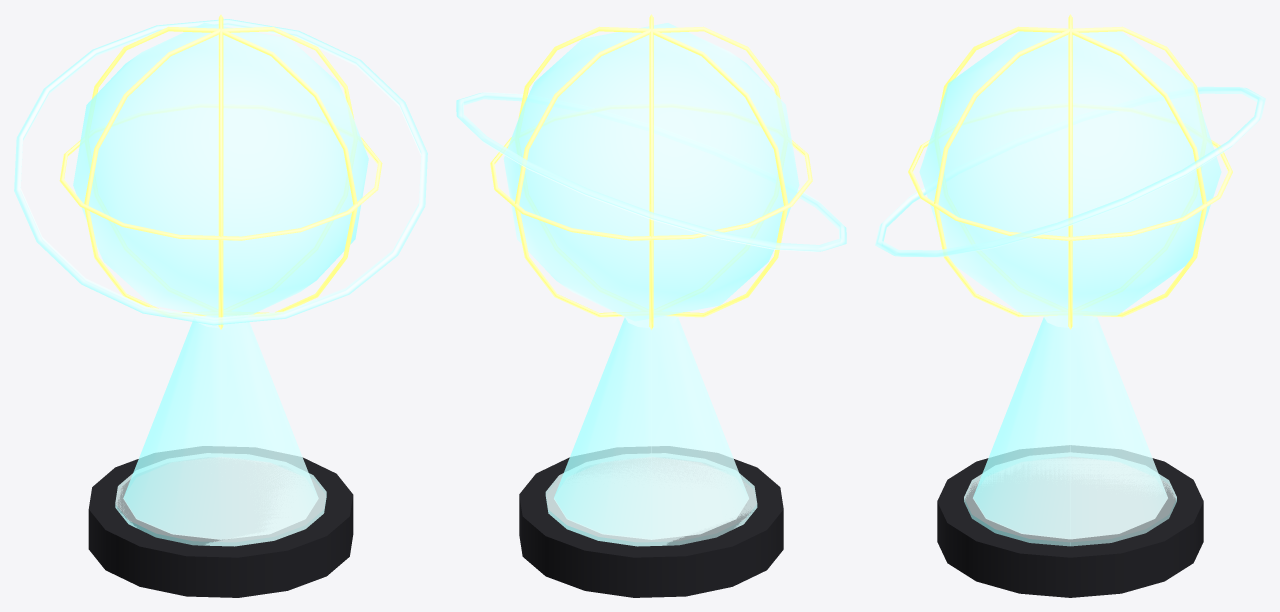
File: station_transport_ausstattung_1_3.glb
3 renders of one model, left to right at view 1: azimuth 30°, elevation 25°; view 2: azimuth 150°, elevation 25°; view 3: azimuth 270°, elevation 25°, orthographic.
Visible parts, largest first — view 1: station_transport_ausstattung_1_3; view 2: station_transport_ausstattung_1_3; view 3: station_transport_ausstattung_1_3.
Boxes of the visible parts, <box> form: station_transport_ausstattung_1_3: <box>14,14,427,597</box>; station_transport_ausstattung_1_3: <box>456,14,846,597</box>; station_transport_ausstattung_1_3: <box>875,14,1265,597</box>.
Bounding box in the file's own units: 0.9257 × 1.27 × 0.8796.
